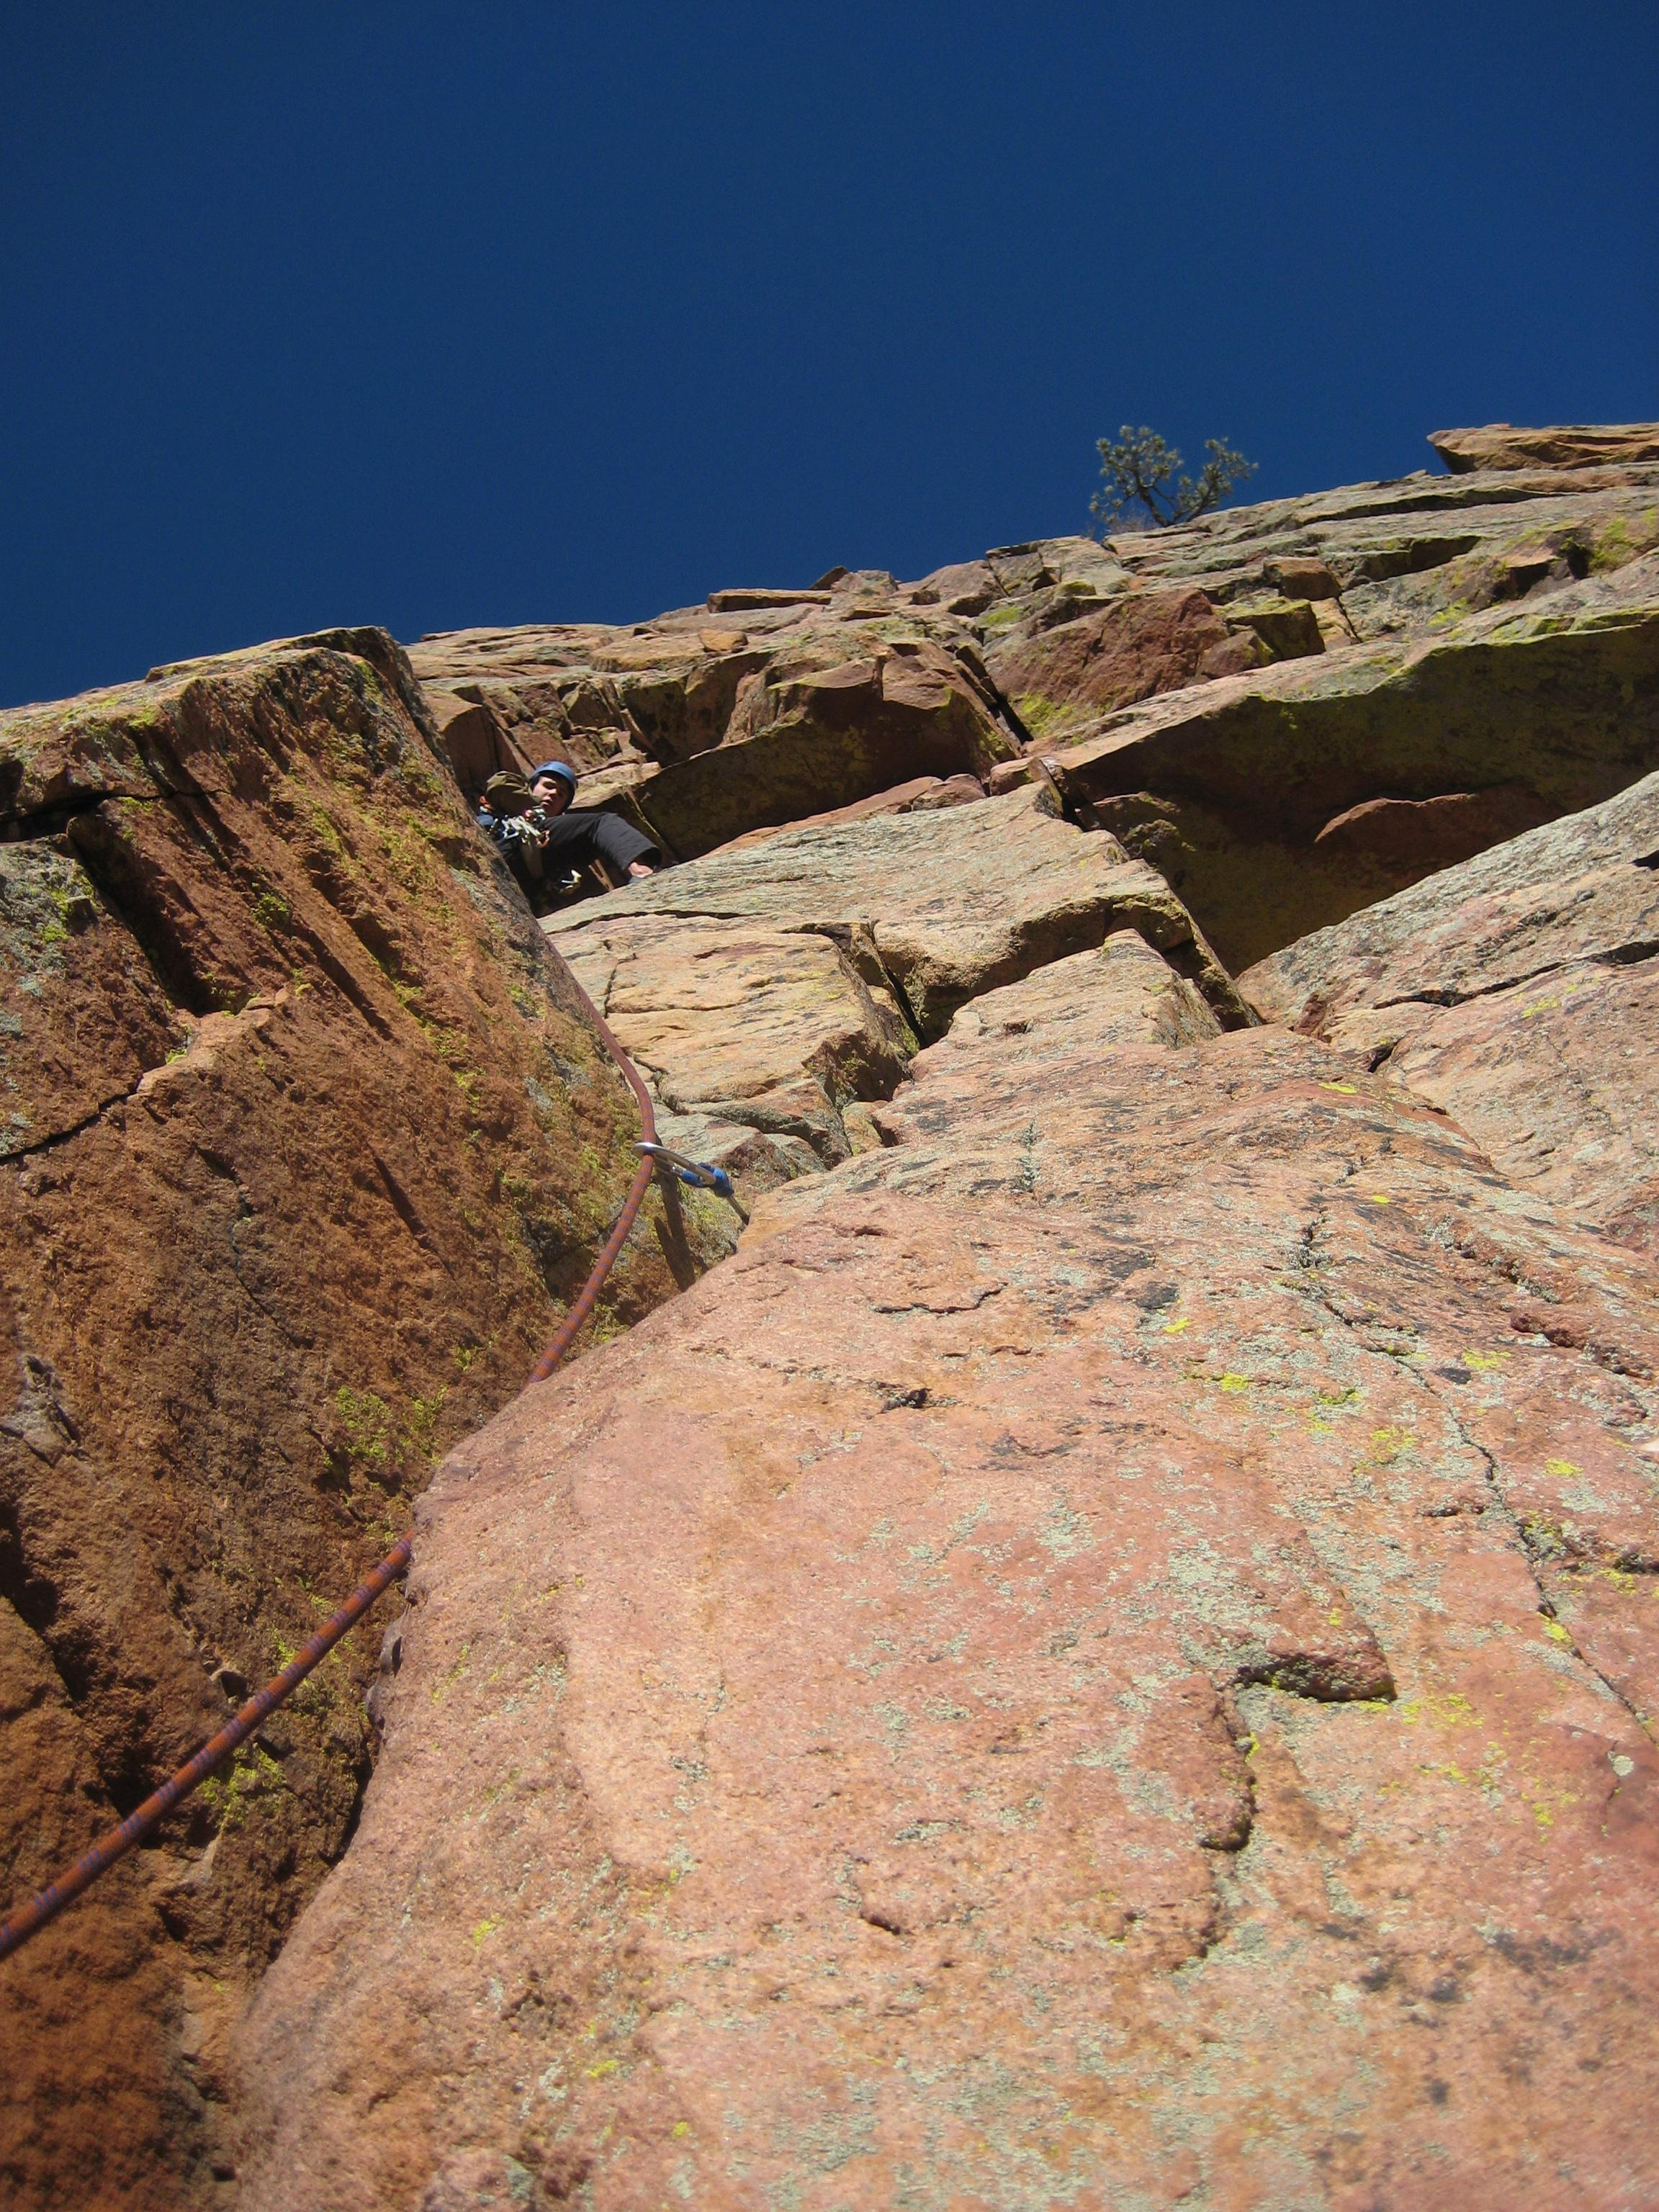helmet: (519, 752, 589, 796)
